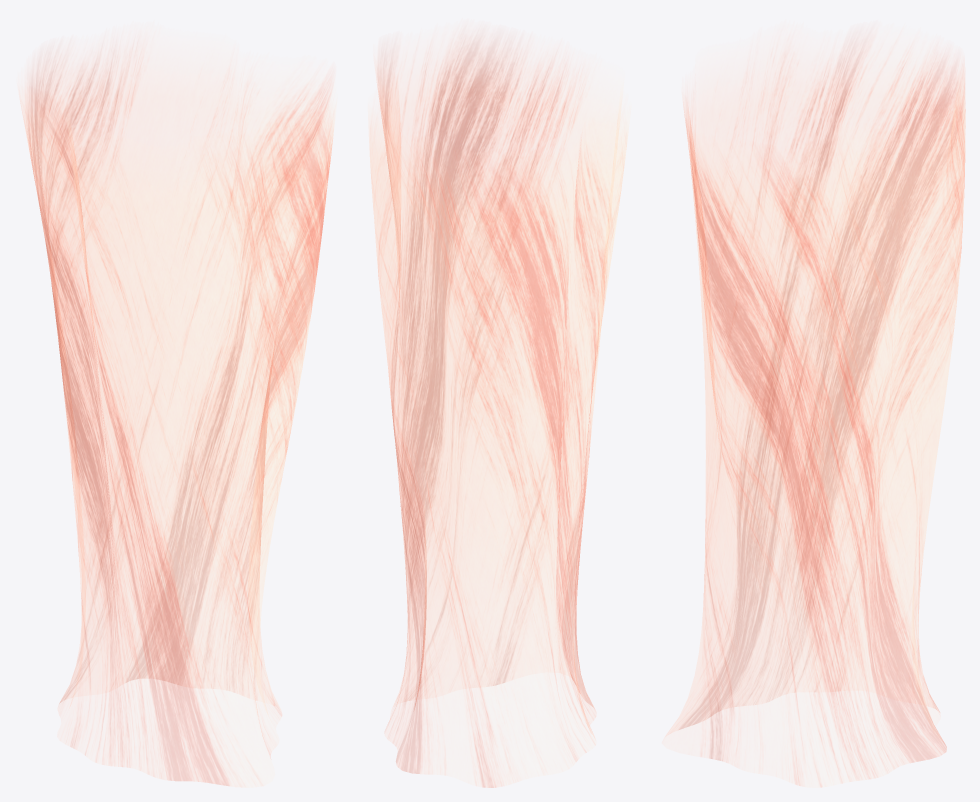
Rendered from devil_outer_1.glb.
3 views of the same model, side by side, from view 1: azimuth 30°, elevation 25°; view 2: azimuth 150°, elevation 25°; view 3: azimuth 270°, elevation 25° (orthographic). The views are drawn at different scales.
Parts seen in each view (by area): view 1: devil_outer_1; view 2: devil_outer_1; view 3: devil_outer_1.
Boxes of the visible parts, x1,y1,x2,y2 form: devil_outer_1: (19, 43, 335, 786); devil_outer_1: (368, 37, 629, 787); devil_outer_1: (662, 40, 965, 787).
Bounding box in the file's own units: 8.77 × 21.2 × 8.8.
1 material, 1 textured.
